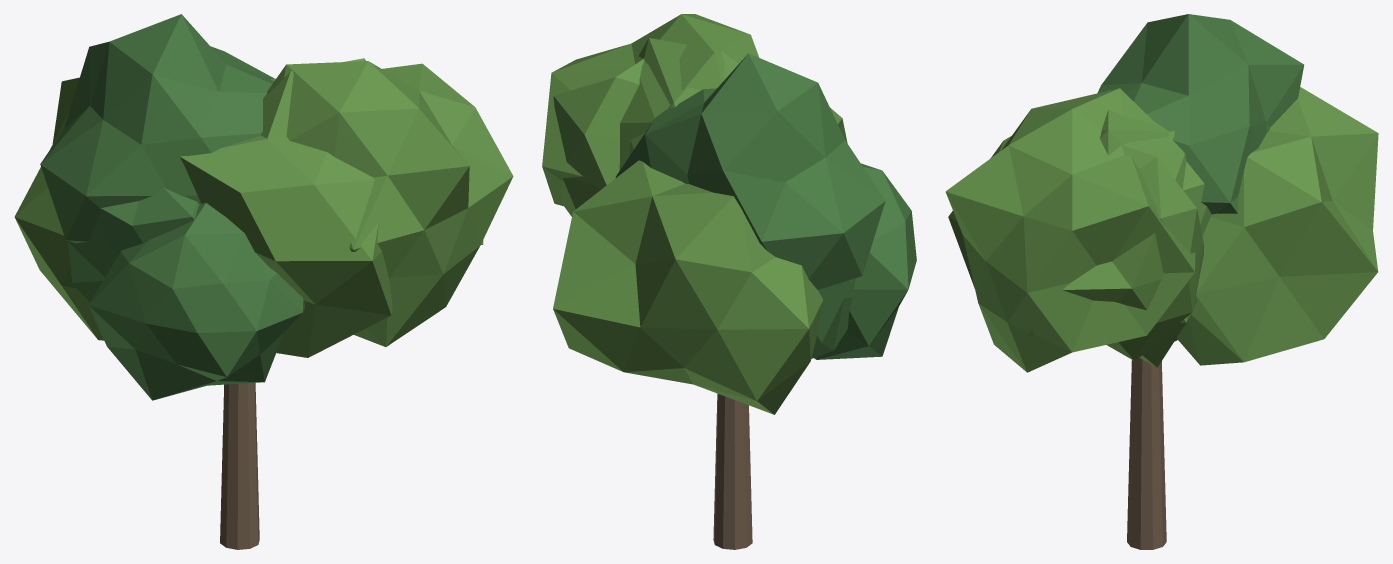
File: Tree_Oak_1.fbx
3 views of the same model, side by side, from view 1: azimuth 30°, elevation 25°; view 2: azimuth 150°, elevation 25°; view 3: azimuth 270°, elevation 25° (orthographic). The views are drawn at different scales.
Parts seen in each view (by area): view 1: Tree_Oak_1; view 2: Tree_Oak_1; view 3: Tree_Oak_1.
Boxes of the visible parts, x1=… form: Tree_Oak_1: x1=14, y1=14, x2=513, y2=549; Tree_Oak_1: x1=542, y1=14, x2=916, y2=549; Tree_Oak_1: x1=945, y1=14, x2=1378, y2=549.
Size of the model in its own units: 7.28 by 7.38 by 9.6.
